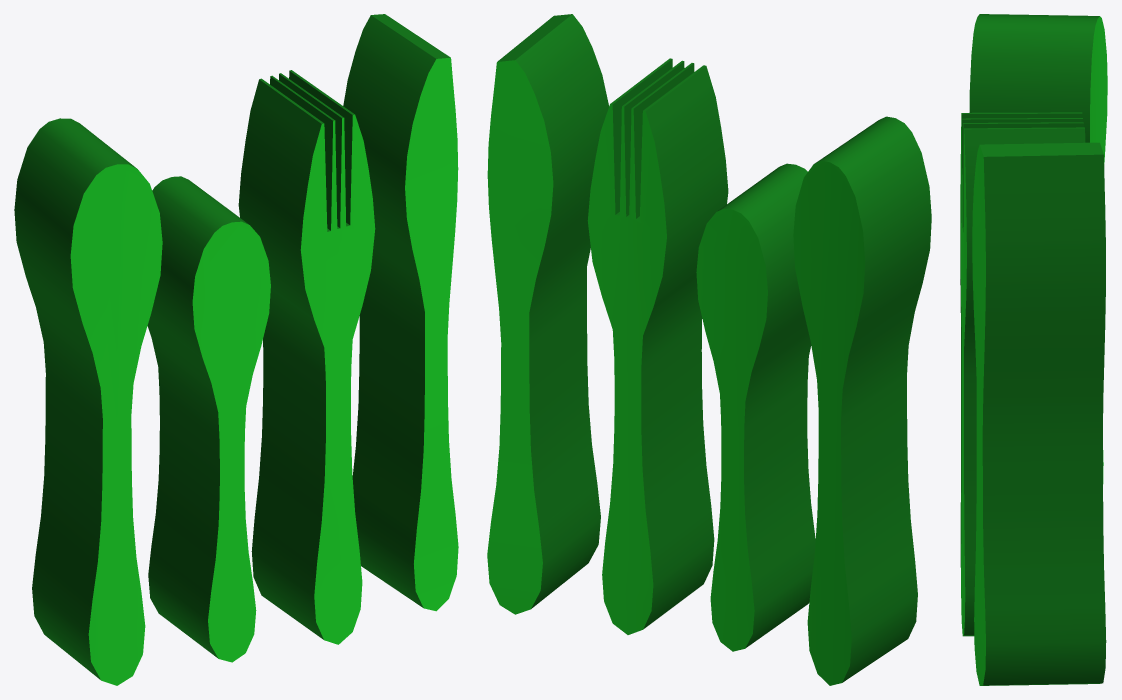
Rendered from Forks_Inner.fbx.
3 views of the same model, side by side, from view 1: azimuth 30°, elevation 25°; view 2: azimuth 150°, elevation 25°; view 3: azimuth 270°, elevation 25° (orthographic). The views are drawn at different scales.
Parts seen in each view (by area): view 1: Forks_Inner; view 2: Forks_Inner; view 3: Forks_Inner.
Part boxes in pixels (x1,y1,x2,y2): Forks_Inner: (14,14,458,685); Forks_Inner: (487,14,931,685); Forks_Inner: (960,14,1107,685).
Bounding box in the file's own units: 24.67 × 33.71 × 8.3.
